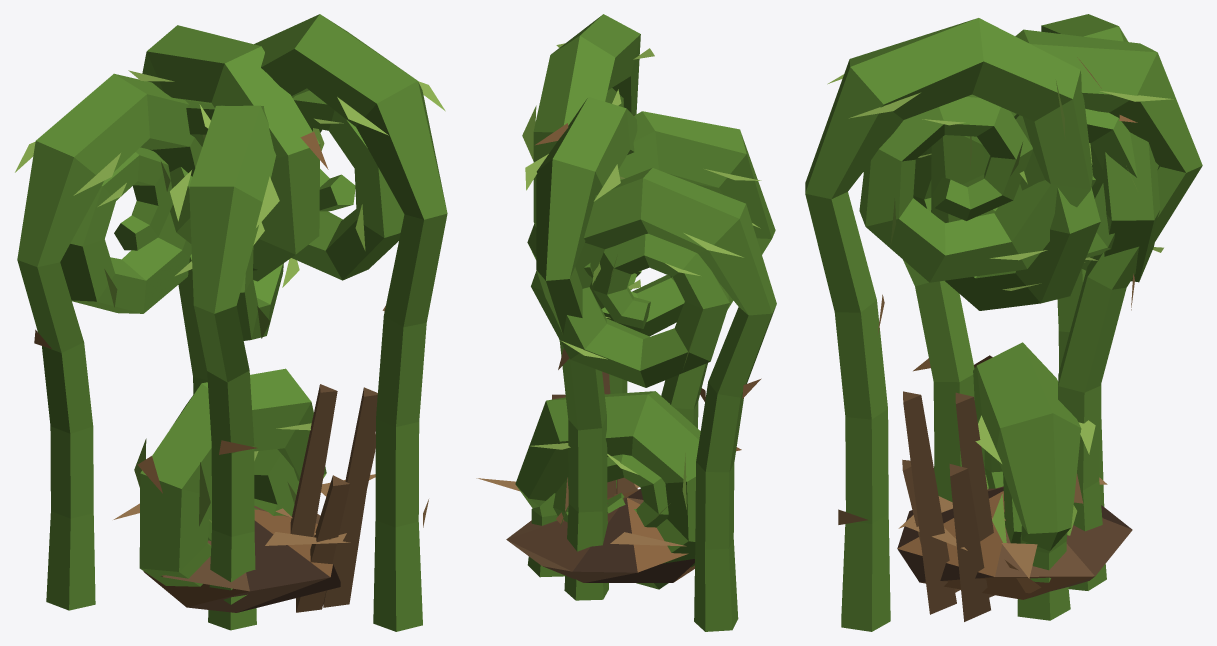
File: fiddlehead1_v1.fbx
3 views of the same model, side by side, from view 1: azimuth 30°, elevation 25°; view 2: azimuth 150°, elevation 25°; view 3: azimuth 270°, elevation 25° (orthographic). The views are drawn at different scales.
Visible parts, largest first — view 1: fiddlehead1_v1; view 2: fiddlehead1_v1; view 3: fiddlehead1_v1.
Part boxes in pixels (x1=…): fiddlehead1_v1: x1=15, y1=14, x2=447, y2=631; fiddlehead1_v1: x1=476, y1=14, x2=776, y2=631; fiddlehead1_v1: x1=805, y1=14, x2=1202, y2=631.
Bounding box in the file's own units: 26.65 × 42.01 × 25.34.
